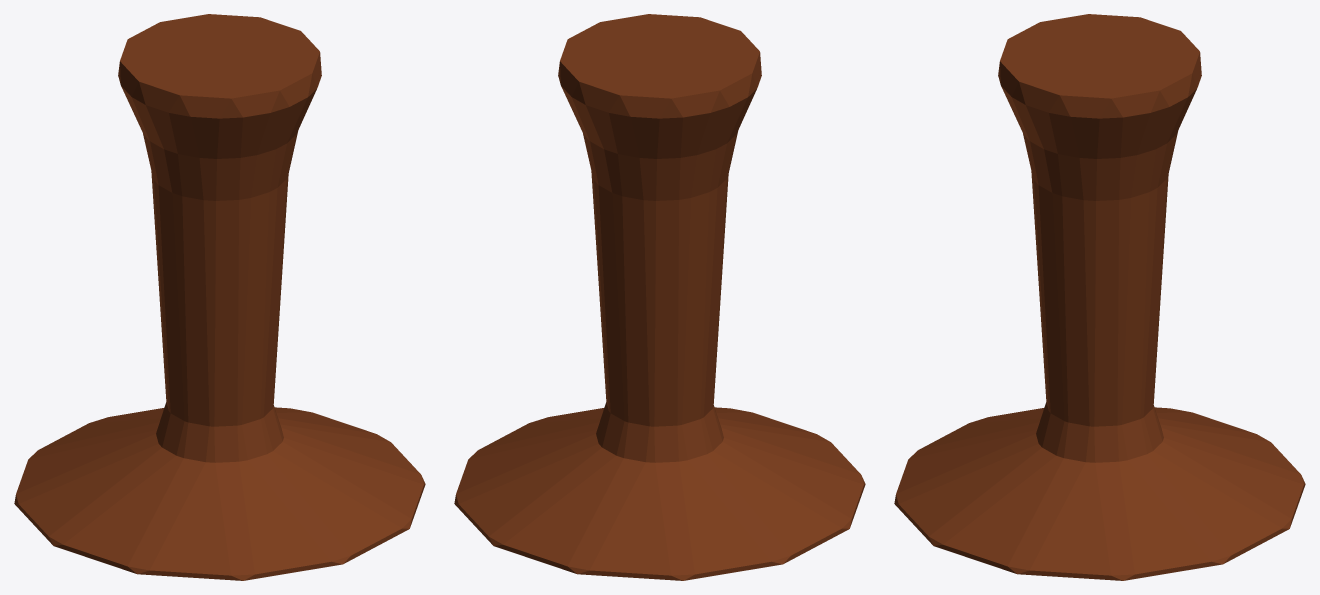
Rendered from feet.fbx.
3 views of the same model, side by side, from view 1: azimuth 30°, elevation 25°; view 2: azimuth 150°, elevation 25°; view 3: azimuth 270°, elevation 25° (orthographic).
Parts seen in each view (by area): view 1: Cylinder.007; view 2: Cylinder.007; view 3: Cylinder.007.
Part boxes in pixels (<box>): Cylinder.007: <box>14,14,425,580</box>; Cylinder.007: <box>454,14,865,580</box>; Cylinder.007: <box>894,14,1305,580</box>.
Size of the model in its own units: 3.95 by 4.64 by 3.95.
